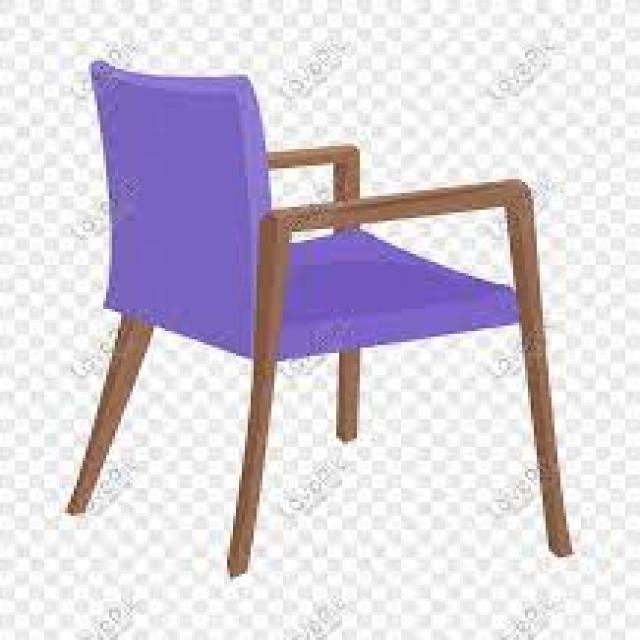chair: (66, 53, 574, 577)
